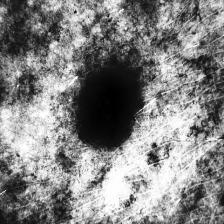Benign Marking or Mole: (82, 78, 133, 138)
